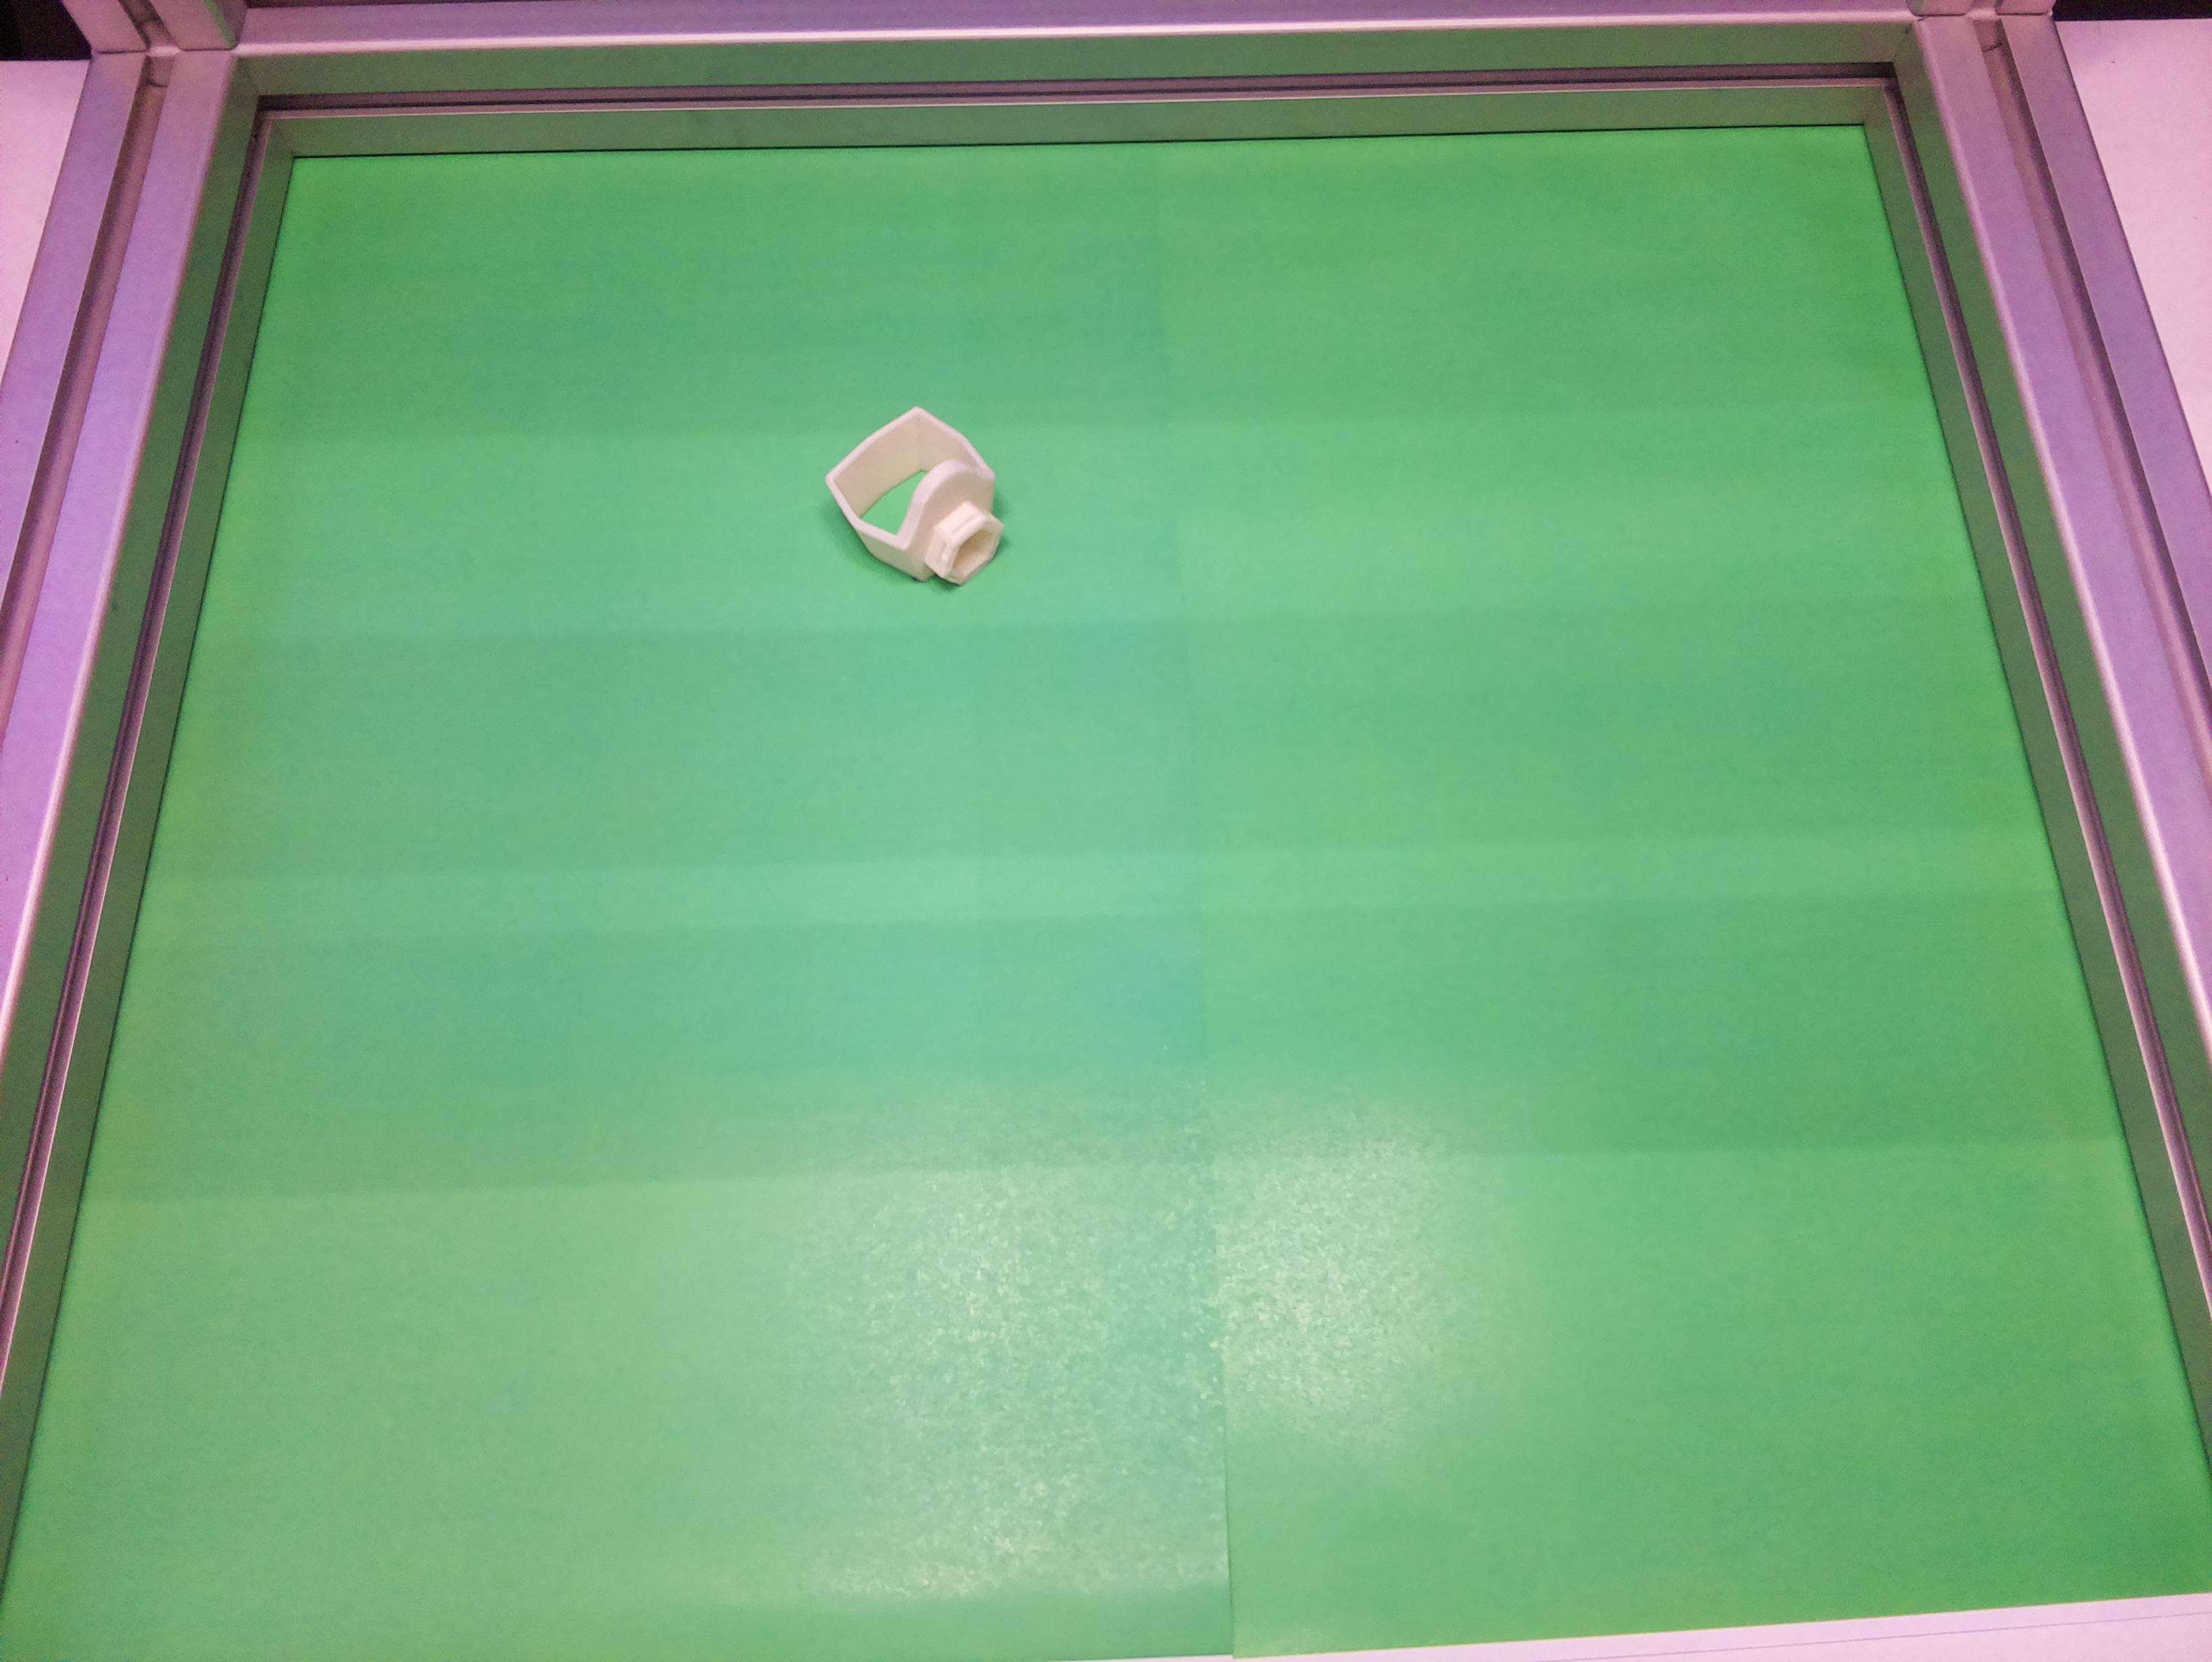tool_holder: (814, 391, 1035, 616)
